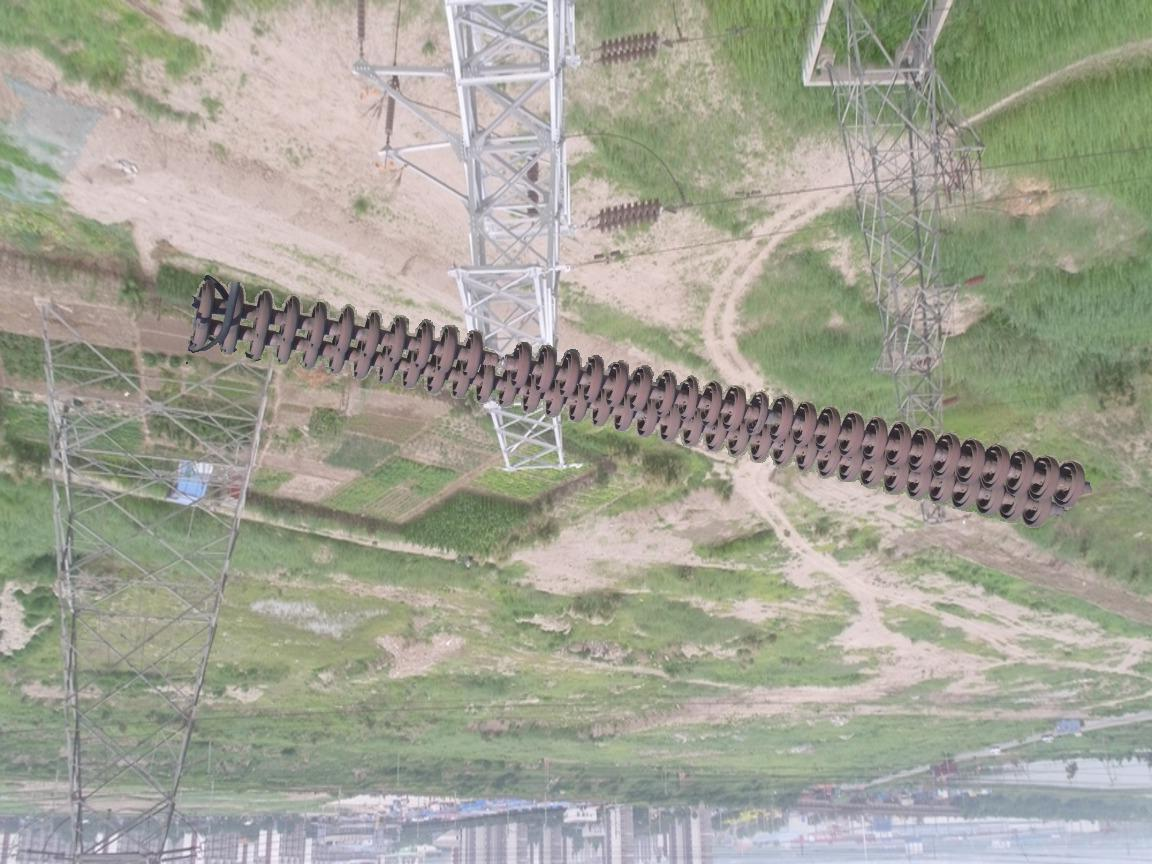insulator: (183, 272, 1098, 533), (595, 27, 663, 71), (593, 194, 665, 234)
insulator_stringdrop: (455, 327, 533, 391)
